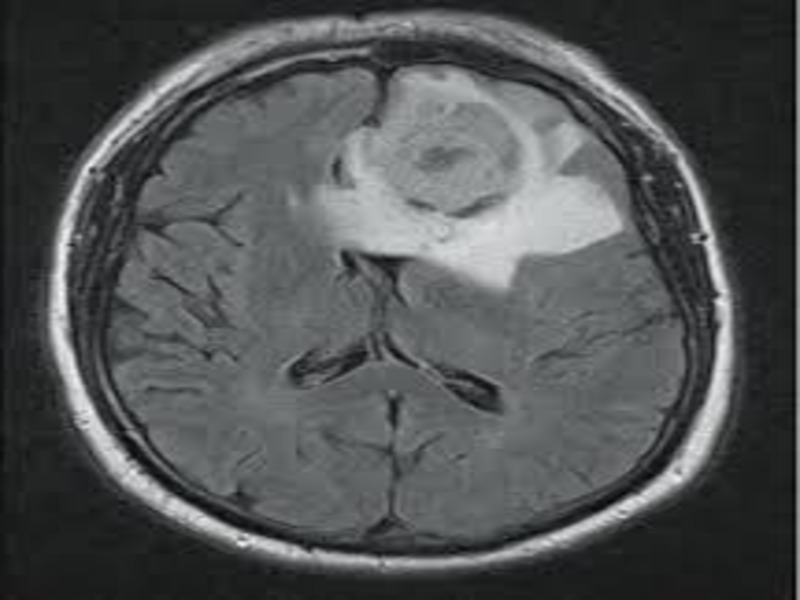tumor: (321, 65, 628, 300)
